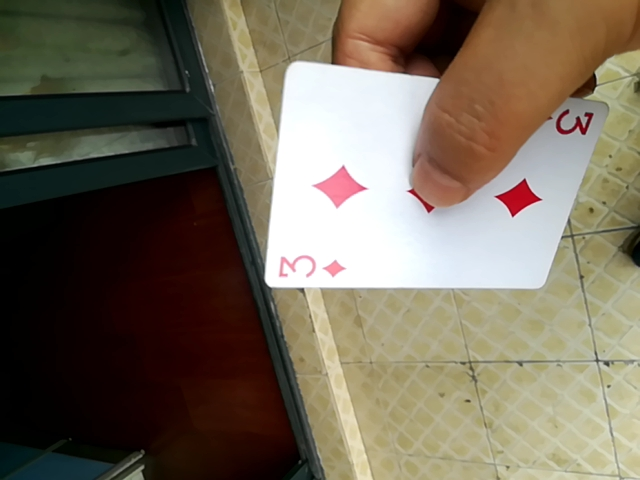fk 3: (265, 57, 621, 278)
